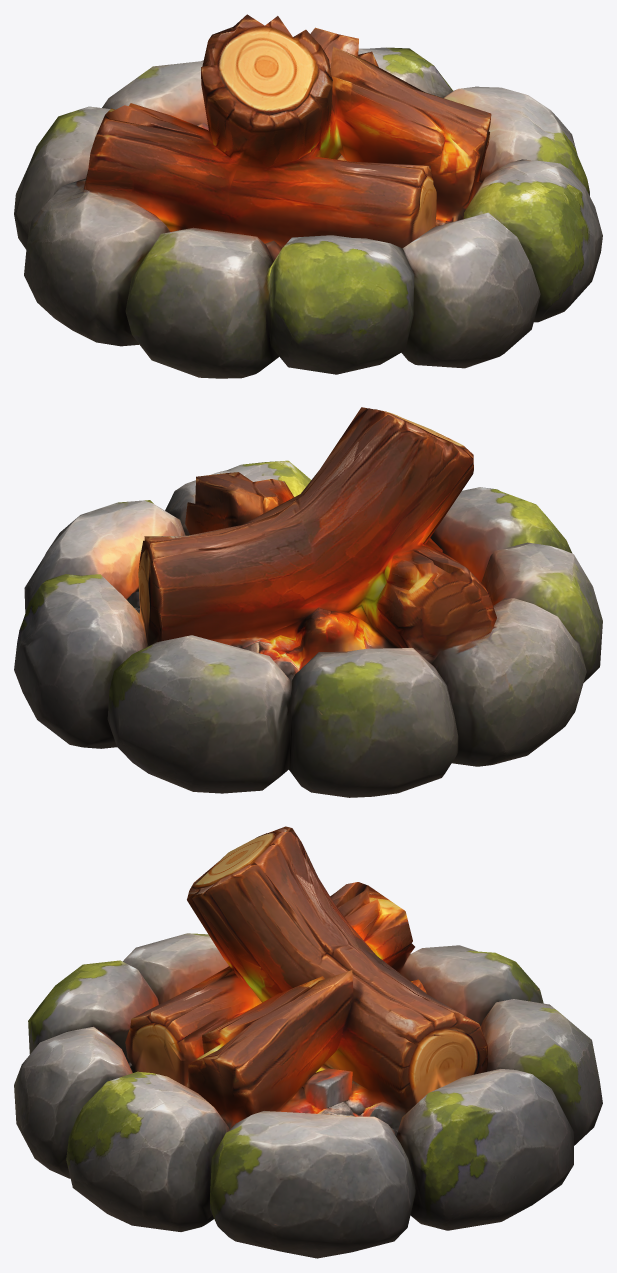
The model's file is Kit_W_Campfire_raw.glb.
The picture shows the model from 3 angles, top to bottom: view 1: azimuth 30°, elevation 25°; view 2: azimuth 150°, elevation 25°; view 3: azimuth 270°, elevation 25°; orthographic projection. The views are drawn at different scales.
Parts seen in each view (by area): view 1: tripo_node_f0e16f8c-837f-494b-9b14-9793fc5f53b7; view 2: tripo_node_f0e16f8c-837f-494b-9b14-9793fc5f53b7; view 3: tripo_node_f0e16f8c-837f-494b-9b14-9793fc5f53b7.
Part boxes in pixels (x1,y1,x2,y2): tripo_node_f0e16f8c-837f-494b-9b14-9793fc5f53b7: (14,14,602,378); tripo_node_f0e16f8c-837f-494b-9b14-9793fc5f53b7: (14,407,602,797); tripo_node_f0e16f8c-837f-494b-9b14-9793fc5f53b7: (14,826,602,1258).
Size of the model in its own units: 0.9948 by 0.5367 by 1.
1 material, 1 textured.
